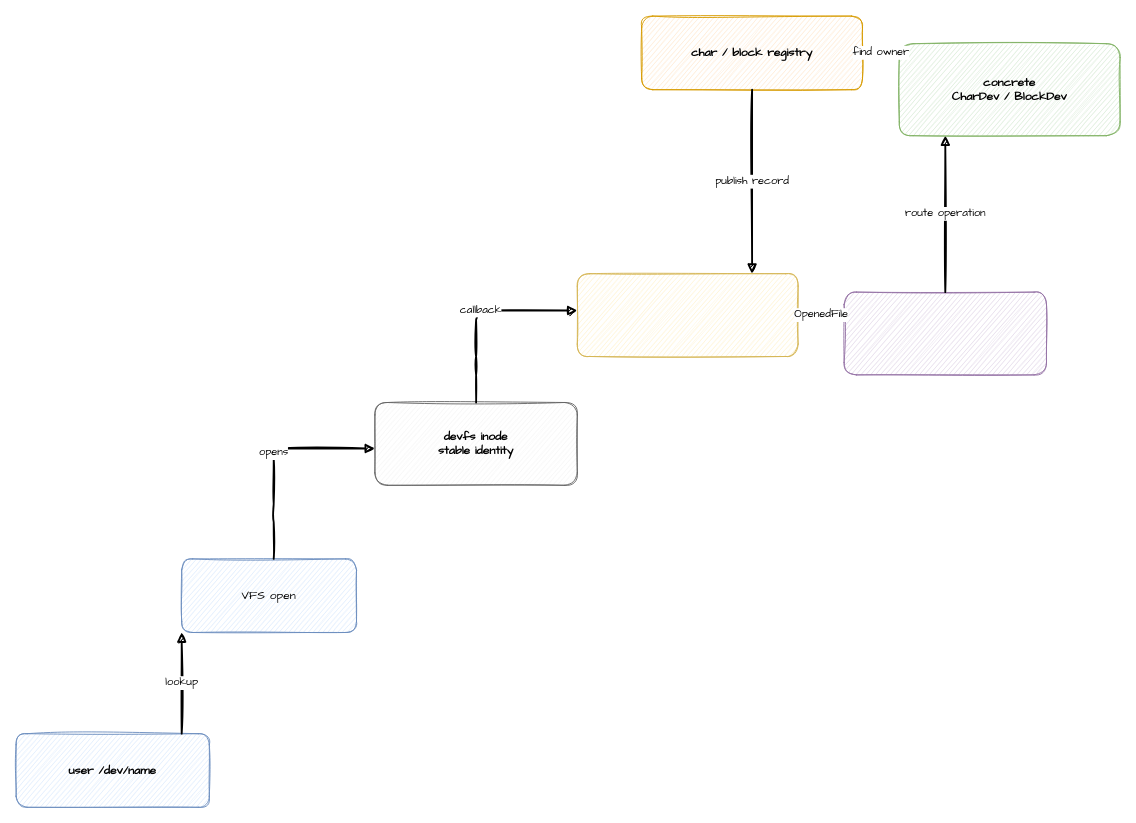
The diagram is 1136 pixels wide and 823 high, and some of its shapes have lost their labels. Each missing label, with the box of its shape:
DevfsPublish name / rdev / ops: (576, 273, 798, 356)
FileOps read / write / ioctl: (843, 291, 1046, 375)
